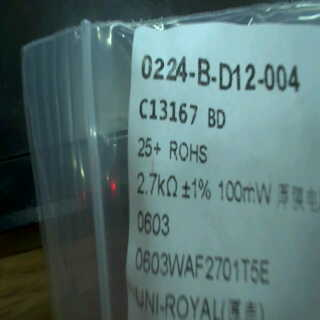2.7kR: (137, 169, 182, 201)
